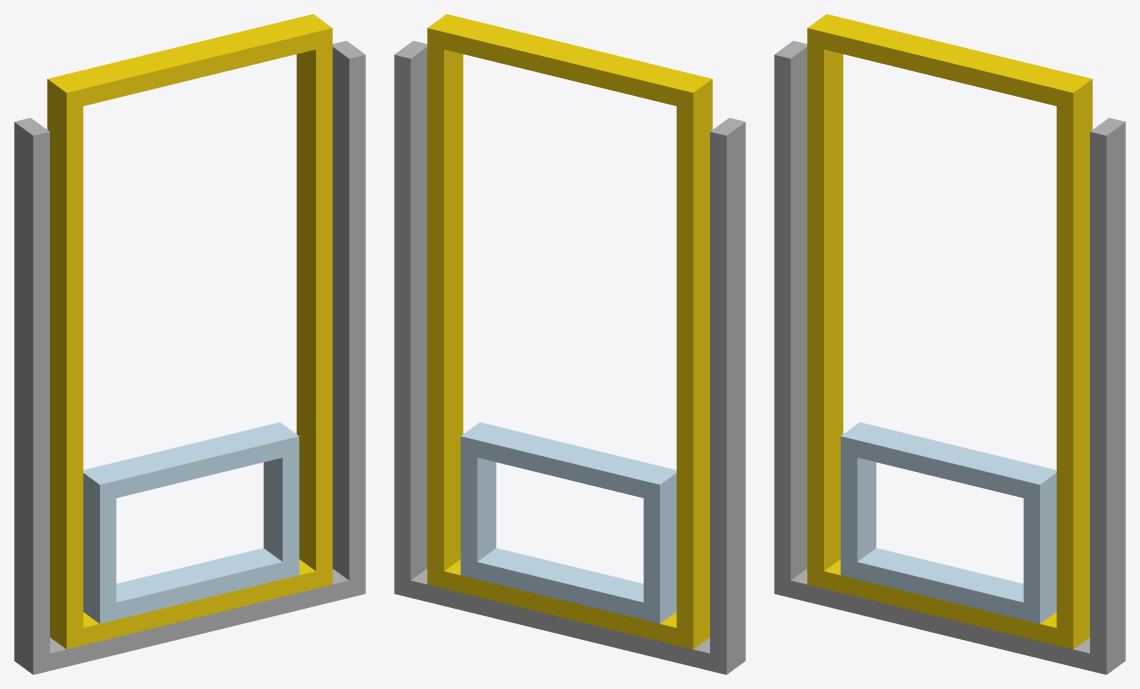
File: elevator.gltf
3 views of the same model, side by side, from view 1: azimuth 30°, elevation 25°; view 2: azimuth 150°, elevation 25°; view 3: azimuth 330°, elevation 25° (orthographic).
Parts seen in each view (by area): view 1: elevatorMoving, elevatorBase, elevatorCarrage; view 2: elevatorMoving, elevatorBase, elevatorCarrage; view 3: elevatorMoving, elevatorBase, elevatorCarrage.
Part boxes in pixels (x1=…): elevatorMoving: x1=47, y1=14, x2=332, y2=649; elevatorBase: x1=14, y1=40, x2=365, y2=674; elevatorCarrage: x1=83, y1=422, x2=299, y2=623; elevatorMoving: x1=427, y1=14, x2=712, y2=649; elevatorBase: x1=394, y1=40, x2=745, y2=674; elevatorCarrage: x1=460, y1=422, x2=676, y2=623; elevatorMoving: x1=807, y1=14, x2=1092, y2=649; elevatorBase: x1=774, y1=40, x2=1125, y2=674; elevatorCarrage: x1=840, y1=422, x2=1056, y2=623.
Bounding box in the file's own units: 0.508 × 0.8382 × 0.0508.
